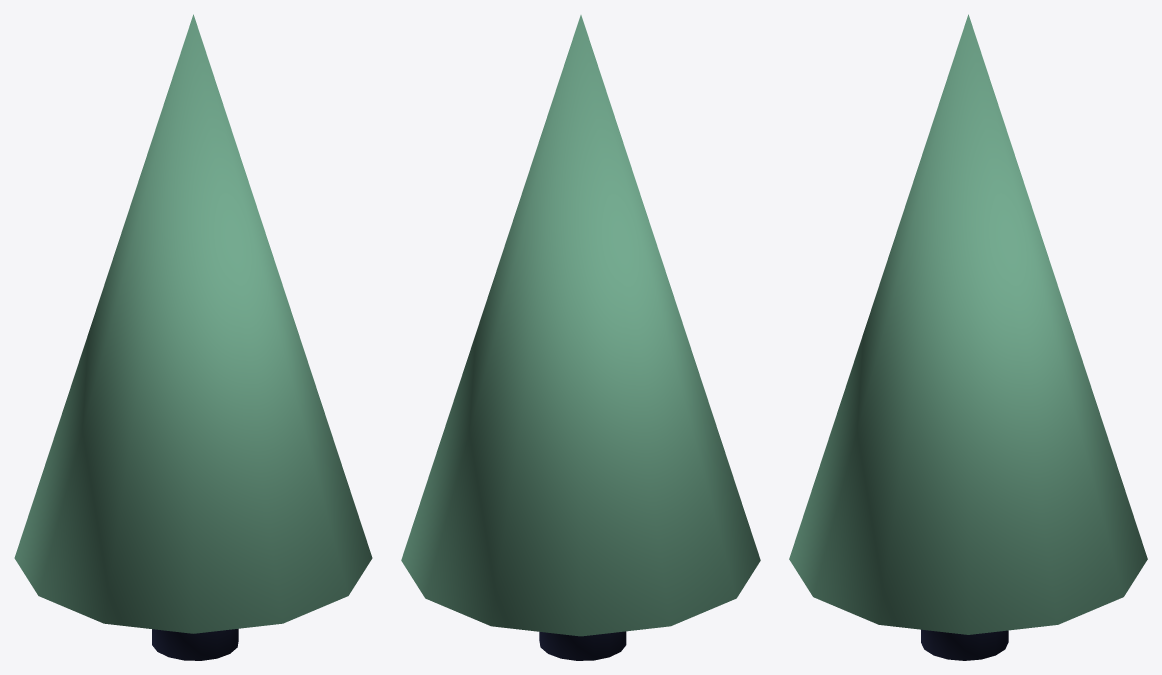
File: tree-sapin.gltf
The picture shows the model from 3 angles, left to right: view 1: azimuth 30°, elevation 25°; view 2: azimuth 150°, elevation 25°; view 3: azimuth 270°, elevation 25°; orthographic projection.
Visible parts, largest first — view 1: Cone, Cylinder; view 2: Cone, Cylinder; view 3: Cone, Cylinder.
Boxes of the visible parts, <box> form: Cone: <box>14,14,372,633</box>; Cylinder: <box>152,628,238,660</box>; Cone: <box>401,15,760,636</box>; Cylinder: <box>539,631,626,660</box>; Cone: <box>789,14,1147,634</box>; Cylinder: <box>921,629,1008,660</box>.
Bounding box in the file's own units: 1.29 × 2.5 × 1.29.
